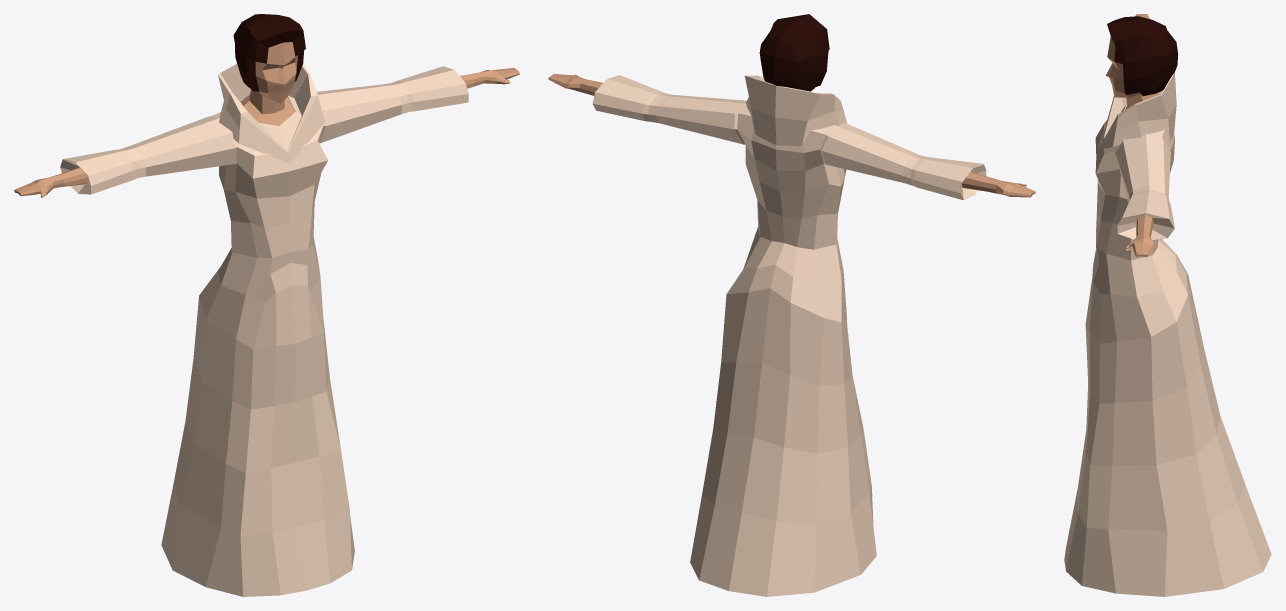
File: _chap2Tamara.fbx
3 views of the same model, side by side, from view 1: azimuth 30°, elevation 25°; view 2: azimuth 150°, elevation 25°; view 3: azimuth 270°, elevation 25° (orthographic). The views are drawn at different scales.
Parts seen in each view (by area): view 1: _chap2Tamara; view 2: _chap2Tamara; view 3: _chap2Tamara.
Boxes of the visible parts, box(x1,y1,x2,y2) form: _chap2Tamara: box(14, 14, 519, 596); _chap2Tamara: box(548, 14, 1035, 596); _chap2Tamara: box(1064, 14, 1271, 596).
Bounding box in the file's own units: 1.74 × 1.84 × 0.633.
